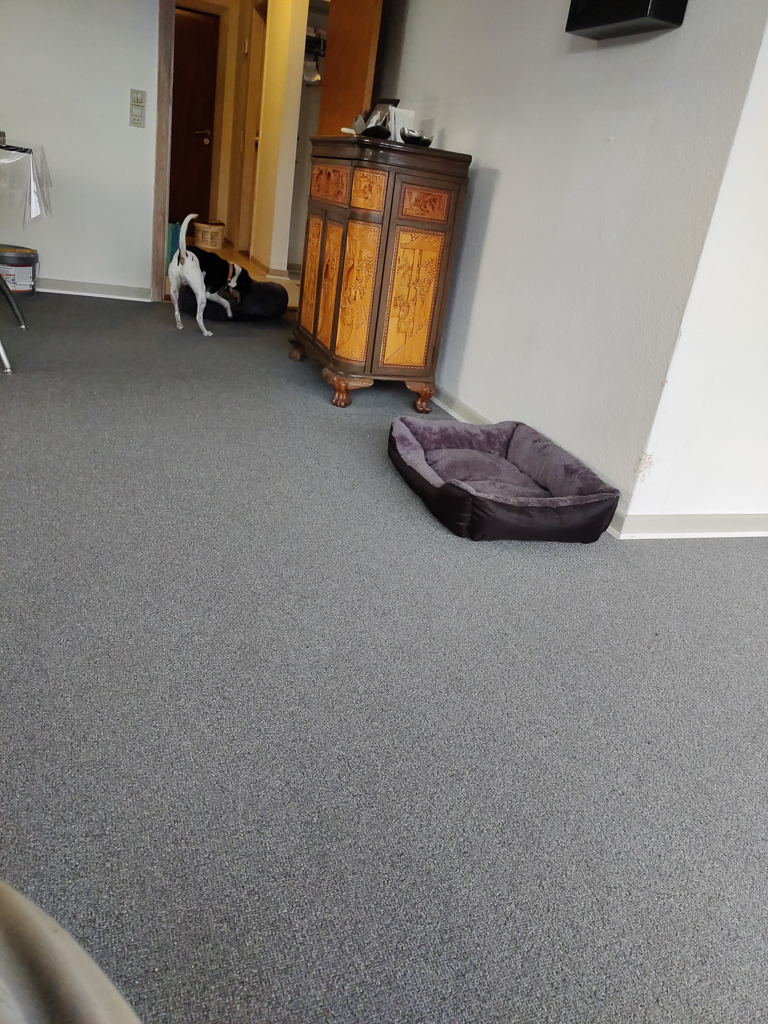Dog: (157, 206, 259, 342)
Humanoid: (0, 864, 174, 1024)
